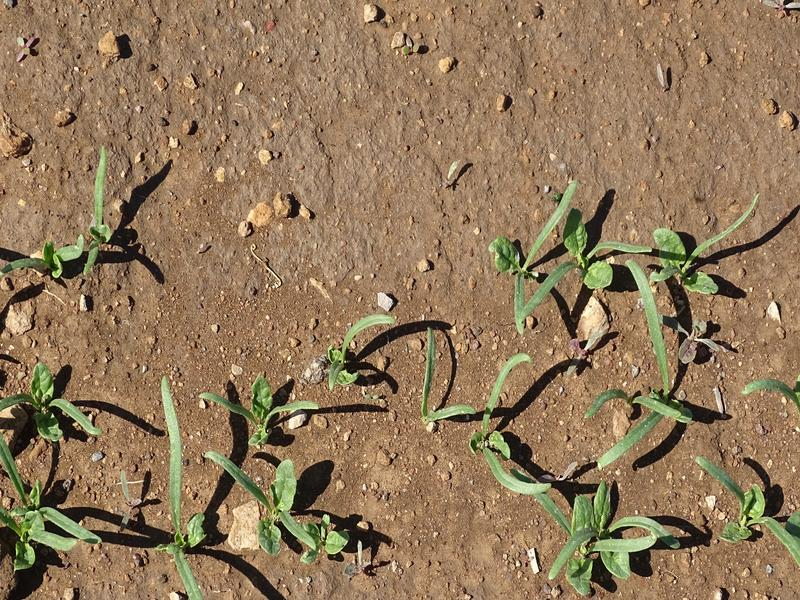Espinaca: (480, 358, 688, 596), (474, 189, 750, 354), (202, 443, 347, 556), (2, 146, 114, 282), (2, 446, 106, 579), (698, 454, 800, 562), (155, 379, 190, 592), (1, 368, 100, 437), (211, 372, 314, 433), (414, 334, 476, 427), (320, 308, 385, 390), (747, 375, 800, 414)
